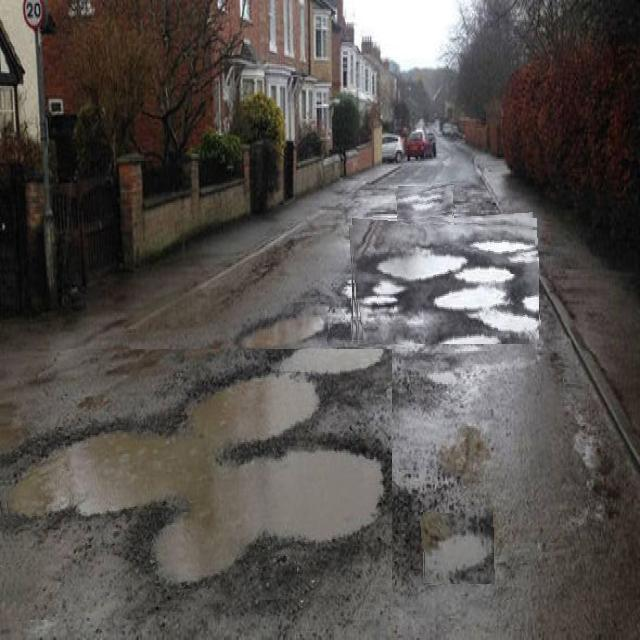Pothole: (0, 349, 392, 617), (350, 215, 539, 344), (422, 511, 494, 584), (233, 302, 329, 351), (397, 184, 455, 220)
